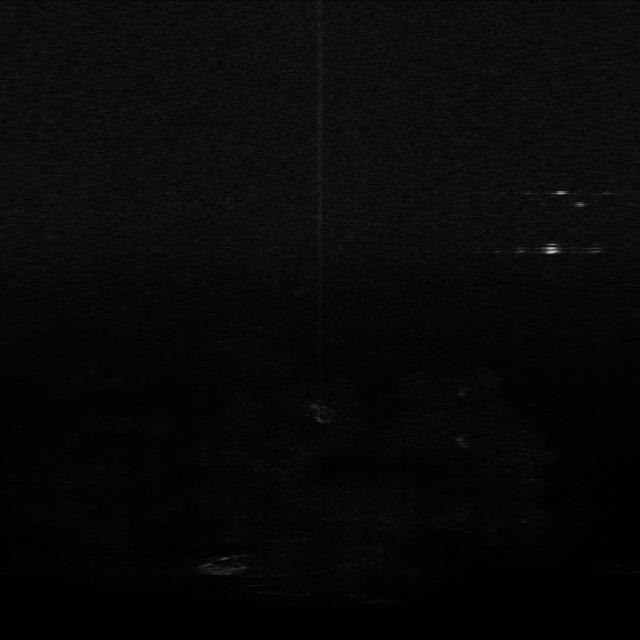rov: (542, 238, 564, 258)
